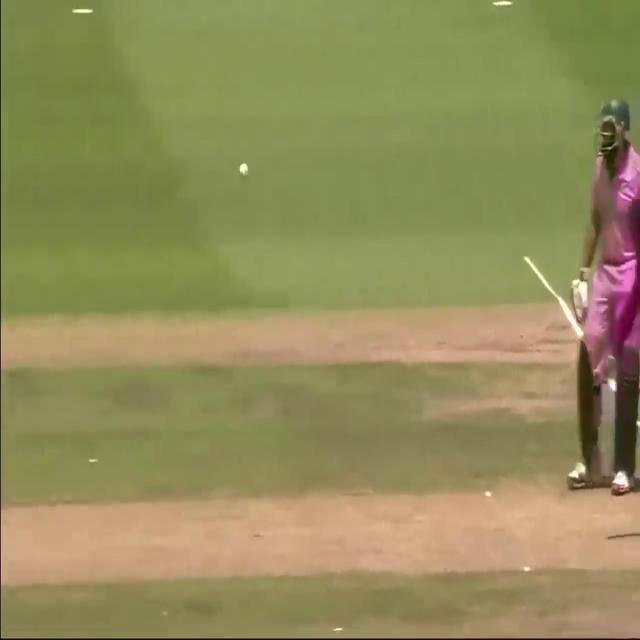Ball: (568, 95, 640, 508)
